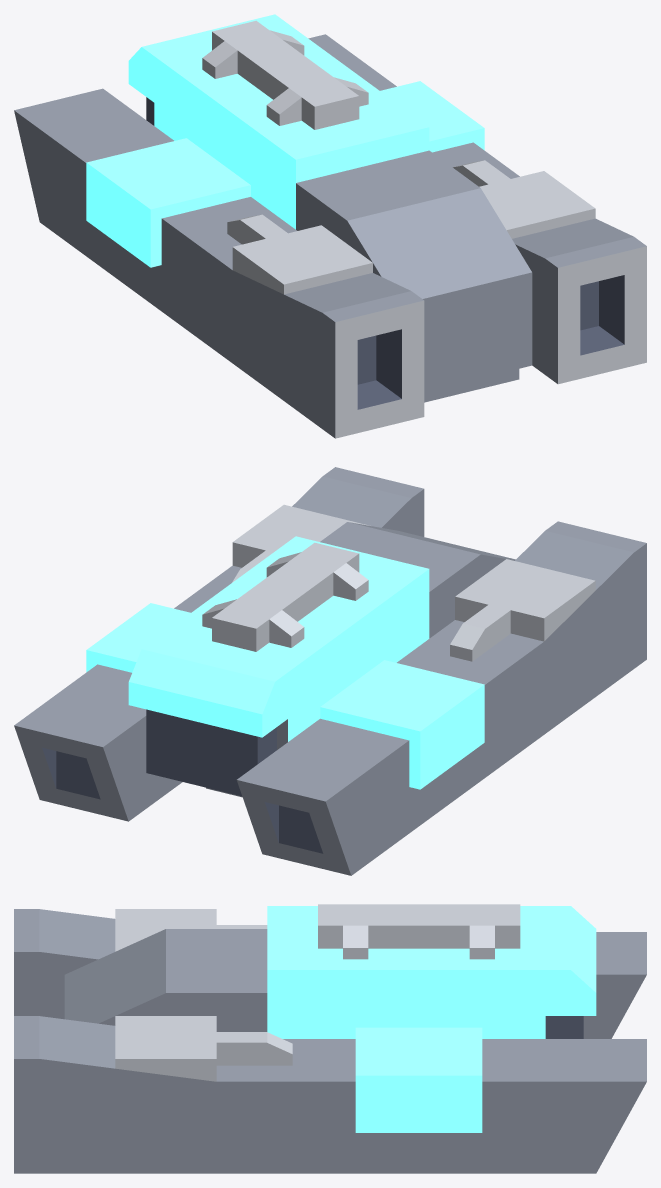
File: craft_cargoB.glb
The picture shows the model from 3 angles, top to bottom: view 1: azimuth 30°, elevation 25°; view 2: azimuth 150°, elevation 25°; view 3: azimuth 270°, elevation 25°; orthographic projection.
Visible parts, largest first — view 1: craft_cargoB; view 2: craft_cargoB; view 3: craft_cargoB.
Part boxes in pixels (x1,y1,x2,y2): craft_cargoB: (14, 14, 646, 438); craft_cargoB: (14, 467, 646, 875); craft_cargoB: (14, 904, 646, 1173).
Size of the model in its own units: 1.5 by 0.9 by 2.5.
